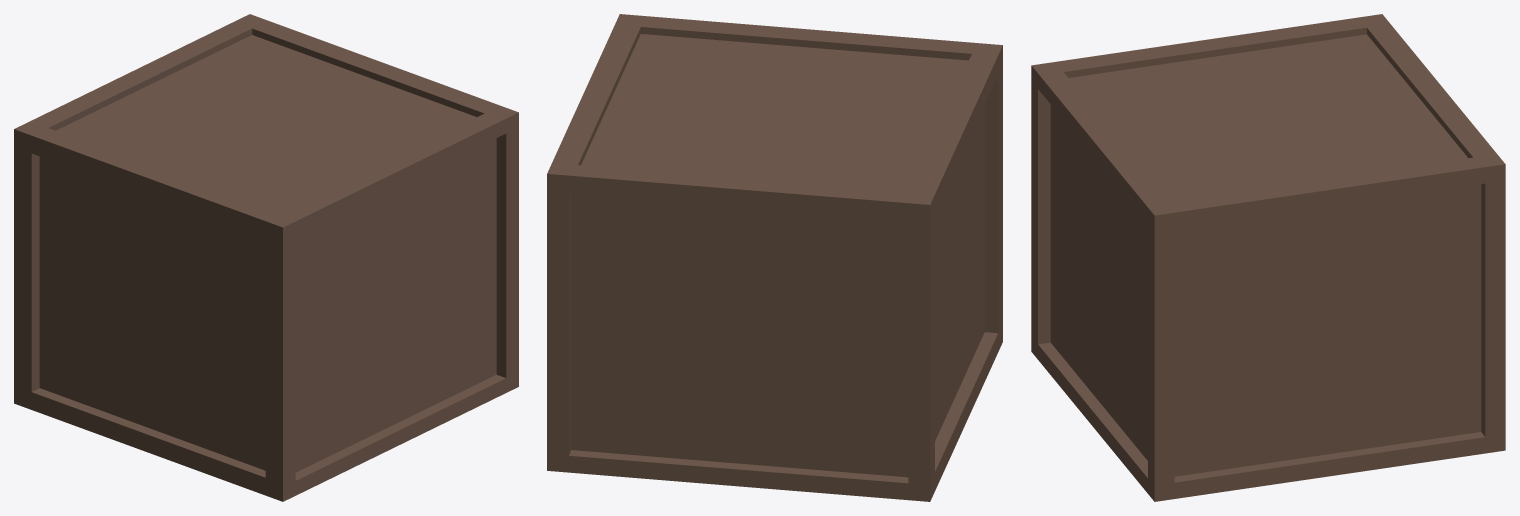
3 renders of one model, left to right at view 1: azimuth 30°, elevation 25°; view 2: azimuth 150°, elevation 25°; view 3: azimuth 270°, elevation 25°, orthographic. The views are drawn at different scales.
Visible parts, largest first — view 1: pCube676; view 2: pCube676; view 3: pCube676.
Part boxes in pixels (left/top/right/bottom): pCube676: left=14, top=14, right=518, bottom=501; pCube676: left=547, top=14, right=1002, bottom=501; pCube676: left=1031, top=14, right=1505, bottom=501.
Size of the model in its own units: 11.29 by 7.48 by 11.22.
